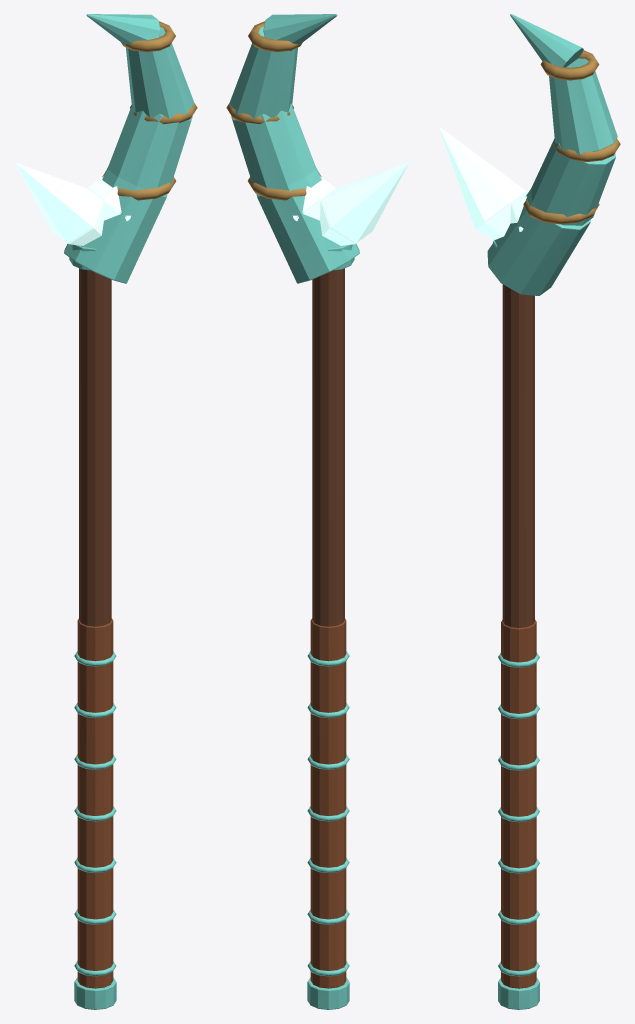
The model's file is item_042.glb.
3 renders of one model, left to right at view 1: azimuth 30°, elevation 25°; view 2: azimuth 150°, elevation 25°; view 3: azimuth 330°, elevation 25°, orthographic.
Parts seen in each view (by area): view 1: Item_042_scorpion_tail; view 2: Item_042_scorpion_tail; view 3: Item_042_scorpion_tail.
Part boxes in pixels (left/top/right/bottom): Item_042_scorpion_tail: left=14, top=14, right=197, bottom=1009; Item_042_scorpion_tail: left=226, top=14, right=409, bottom=1009; Item_042_scorpion_tail: left=438, top=14, right=620, bottom=1009.
Bounding box in the file's own units: 0.419 × 2.22 × 0.156.
